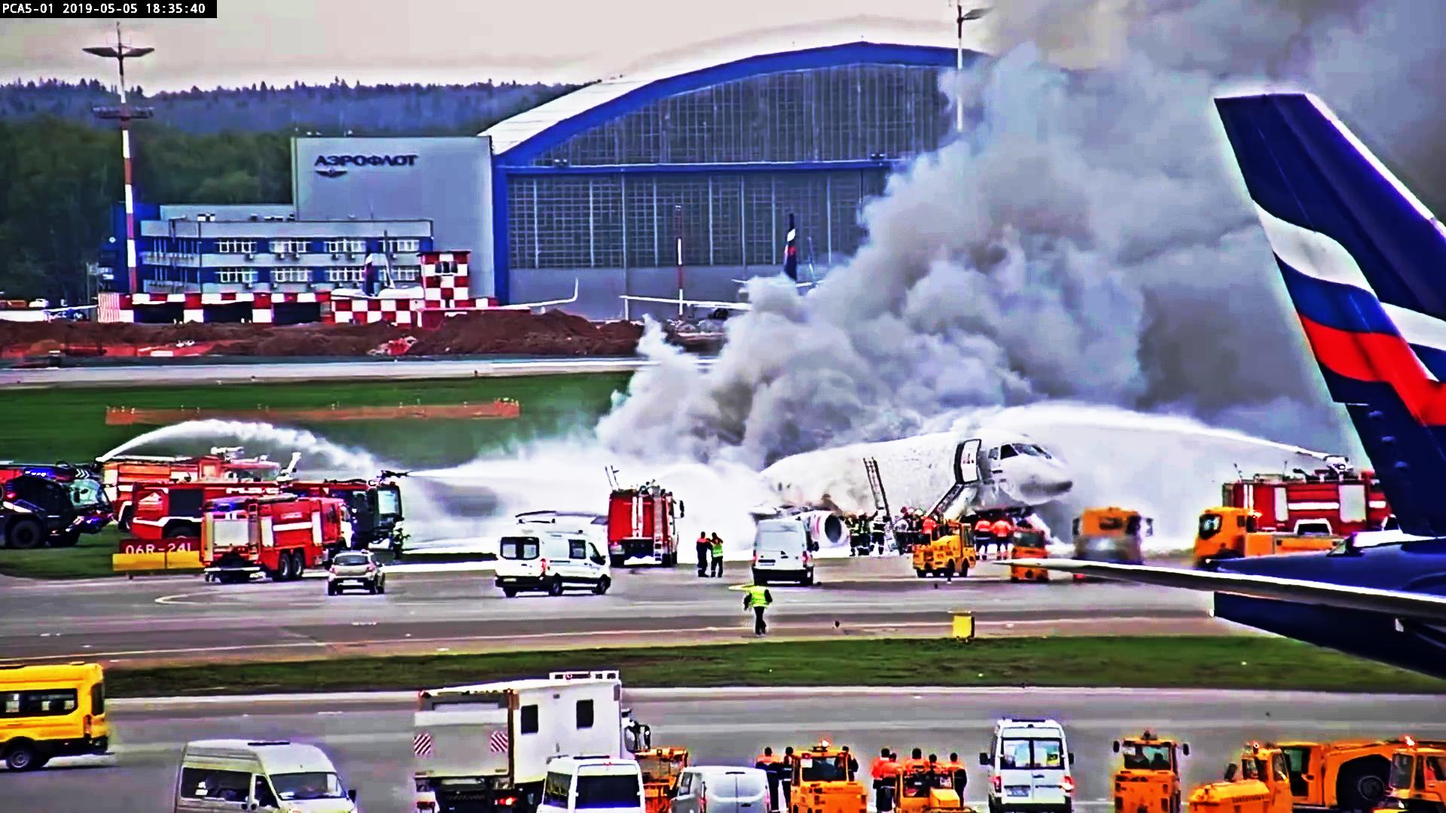smoke: (856, 61, 1164, 394), (624, 276, 870, 445)
